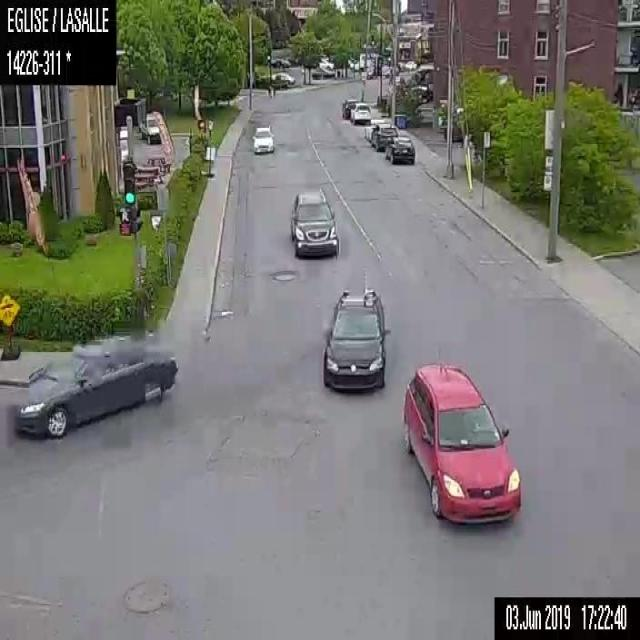vehicle: (401, 361, 524, 523), (14, 335, 176, 437), (320, 287, 391, 389), (288, 188, 339, 257), (387, 135, 415, 165), (251, 125, 274, 155), (371, 121, 396, 148), (139, 113, 161, 142), (363, 117, 386, 142), (351, 102, 372, 124), (268, 70, 294, 83), (340, 97, 356, 118), (311, 66, 334, 80), (404, 58, 416, 69)
